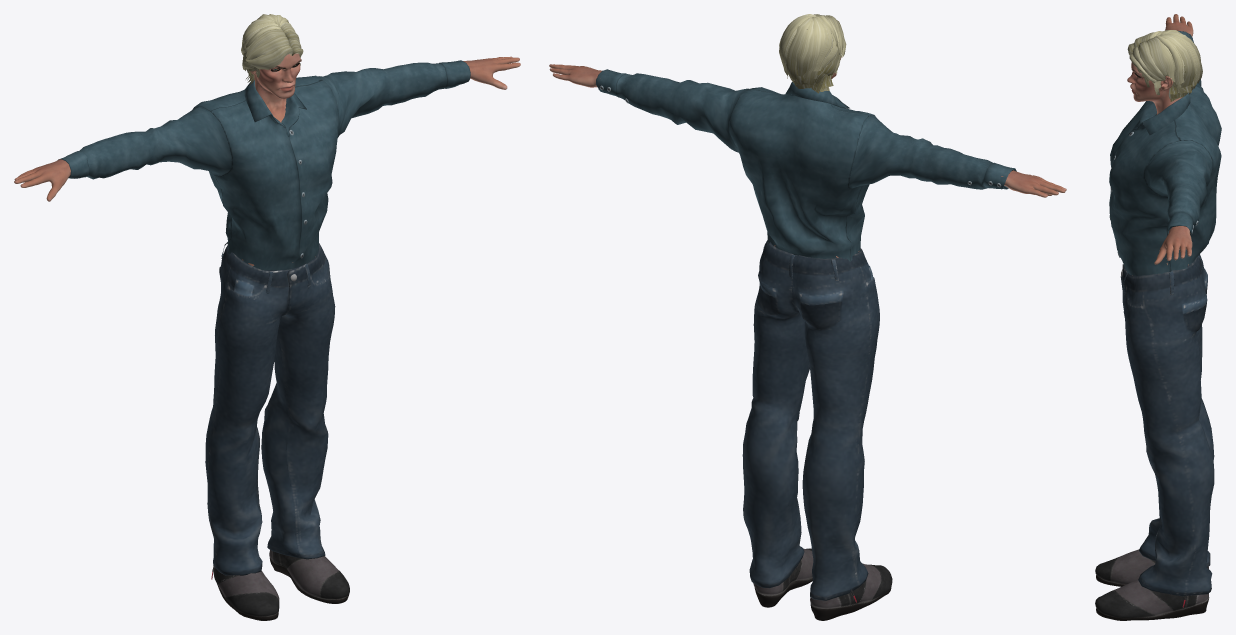
File: MistMe.obj
3 renders of one model, left to right at view 1: azimuth 30°, elevation 25°; view 2: azimuth 150°, elevation 25°; view 3: azimuth 270°, elevation 25°, orthographic. The views are drawn at different scales.
Parts seen in each view (by area): view 1: Bottoms, Tops, Shoes, Body, Hair; view 2: Bottoms, Tops, Hair, Shoes, Body; view 3: Bottoms, Tops, Shoes, Hair, Body.
Boxes of the visible parts, x1,y1,x2,y2 form: Bottoms: [205, 242, 335, 575]; Tops: [58, 60, 470, 270]; Shoes: [211, 550, 349, 620]; Body: [14, 53, 520, 265]; Hair: [241, 14, 303, 85]; Bottoms: [742, 240, 879, 600]; Tops: [596, 69, 1016, 261]; Hair: [779, 14, 846, 93]; Shoes: [753, 548, 892, 620]; Body: [549, 57, 1066, 257]; Bottoms: [1120, 254, 1214, 596]; Tops: [1109, 30, 1221, 275]; Shoes: [1095, 549, 1209, 620]; Hair: [1127, 30, 1202, 101]; Body: [1127, 14, 1193, 275].
Size of the model in its own units: 181 by 195 by 39.68.
1 material, 1 textured.
